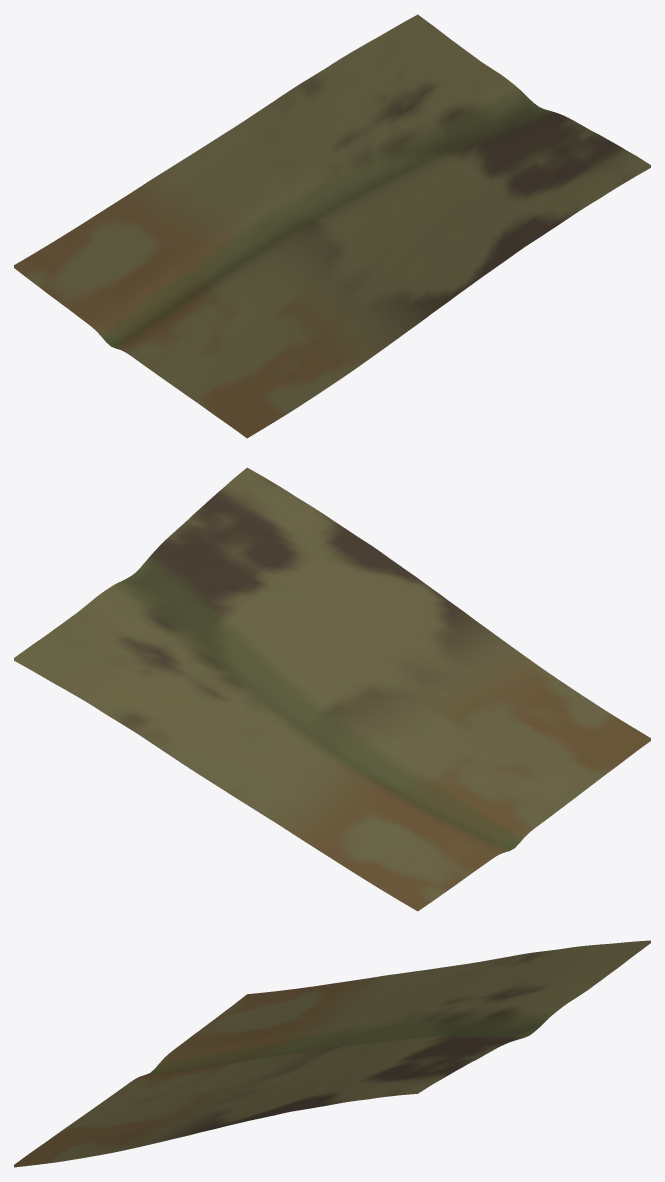
File: land_m_09_04.glb
3 renders of one model, top to bottom at view 1: azimuth 30°, elevation 25°; view 2: azimuth 150°, elevation 25°; view 3: azimuth 330°, elevation 25°, orthographic.
Parts seen in each view (by area): view 1: land_m_09_04; view 2: land_m_09_04; view 3: land_m_09_04.
Part boxes in pixels (x1,y1,x2,y2): land_m_09_04: [14, 14, 650, 438]; land_m_09_04: [14, 467, 650, 911]; land_m_09_04: [14, 940, 650, 1167].
Size of the model in its own units: 960 by 415 by 960.
